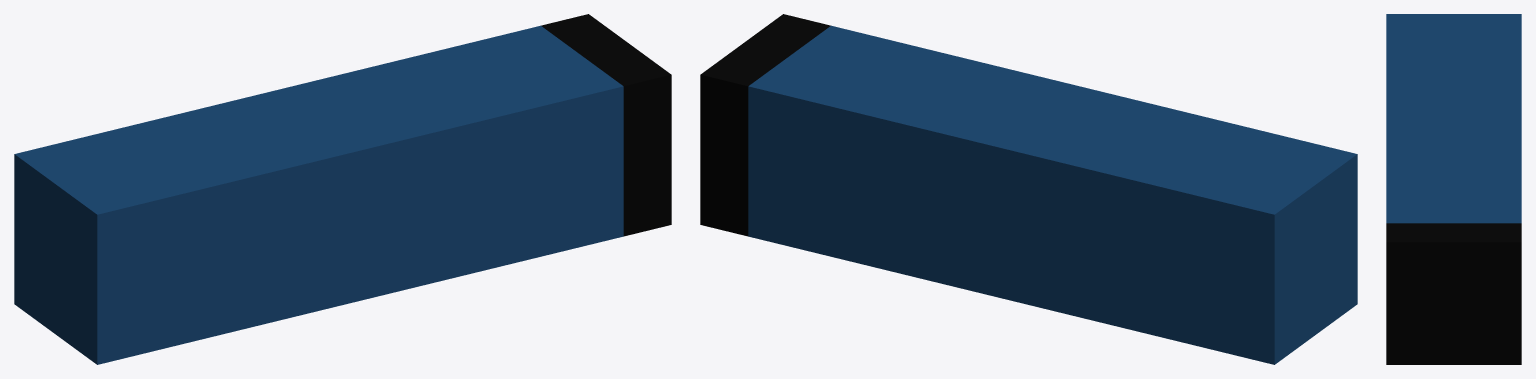
Rendered from john_doe_leg.dae.
The picture shows the model from 3 angles, left to right: view 1: azimuth 30°, elevation 25°; view 2: azimuth 150°, elevation 25°; view 3: azimuth 270°, elevation 25°; orthographic projection. The views are drawn at different scales.
Parts seen in each view (by area): view 1: PlaneCOL; view 2: PlaneCOL; view 3: PlaneCOL.
Part boxes in pixels (<box>): PlaneCOL: <box>14,14,671,364</box>; PlaneCOL: <box>700,14,1357,364</box>; PlaneCOL: <box>1386,14,1521,364</box>.
Bounding box in the file's own units: 1.2 × 0.3 × 0.3.
